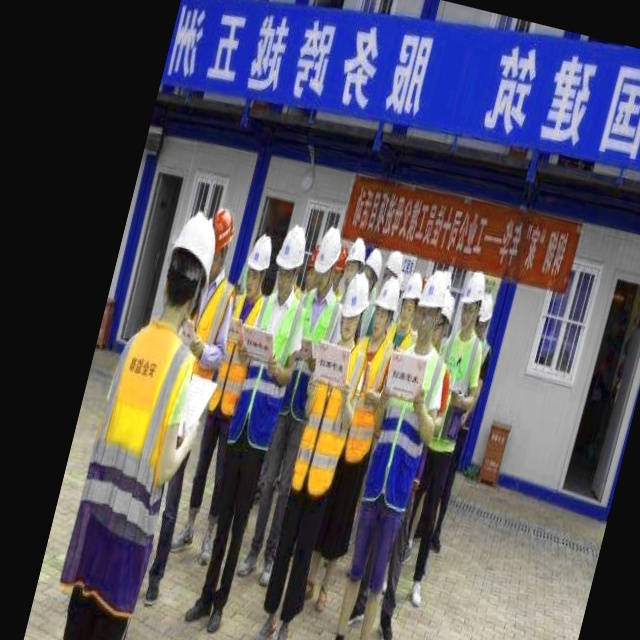Con_Casco: (153, 208, 223, 322), (333, 271, 374, 338)
Con_Chaleco: (51, 325, 201, 625), (360, 336, 452, 517), (221, 288, 309, 458), (287, 338, 366, 502)
